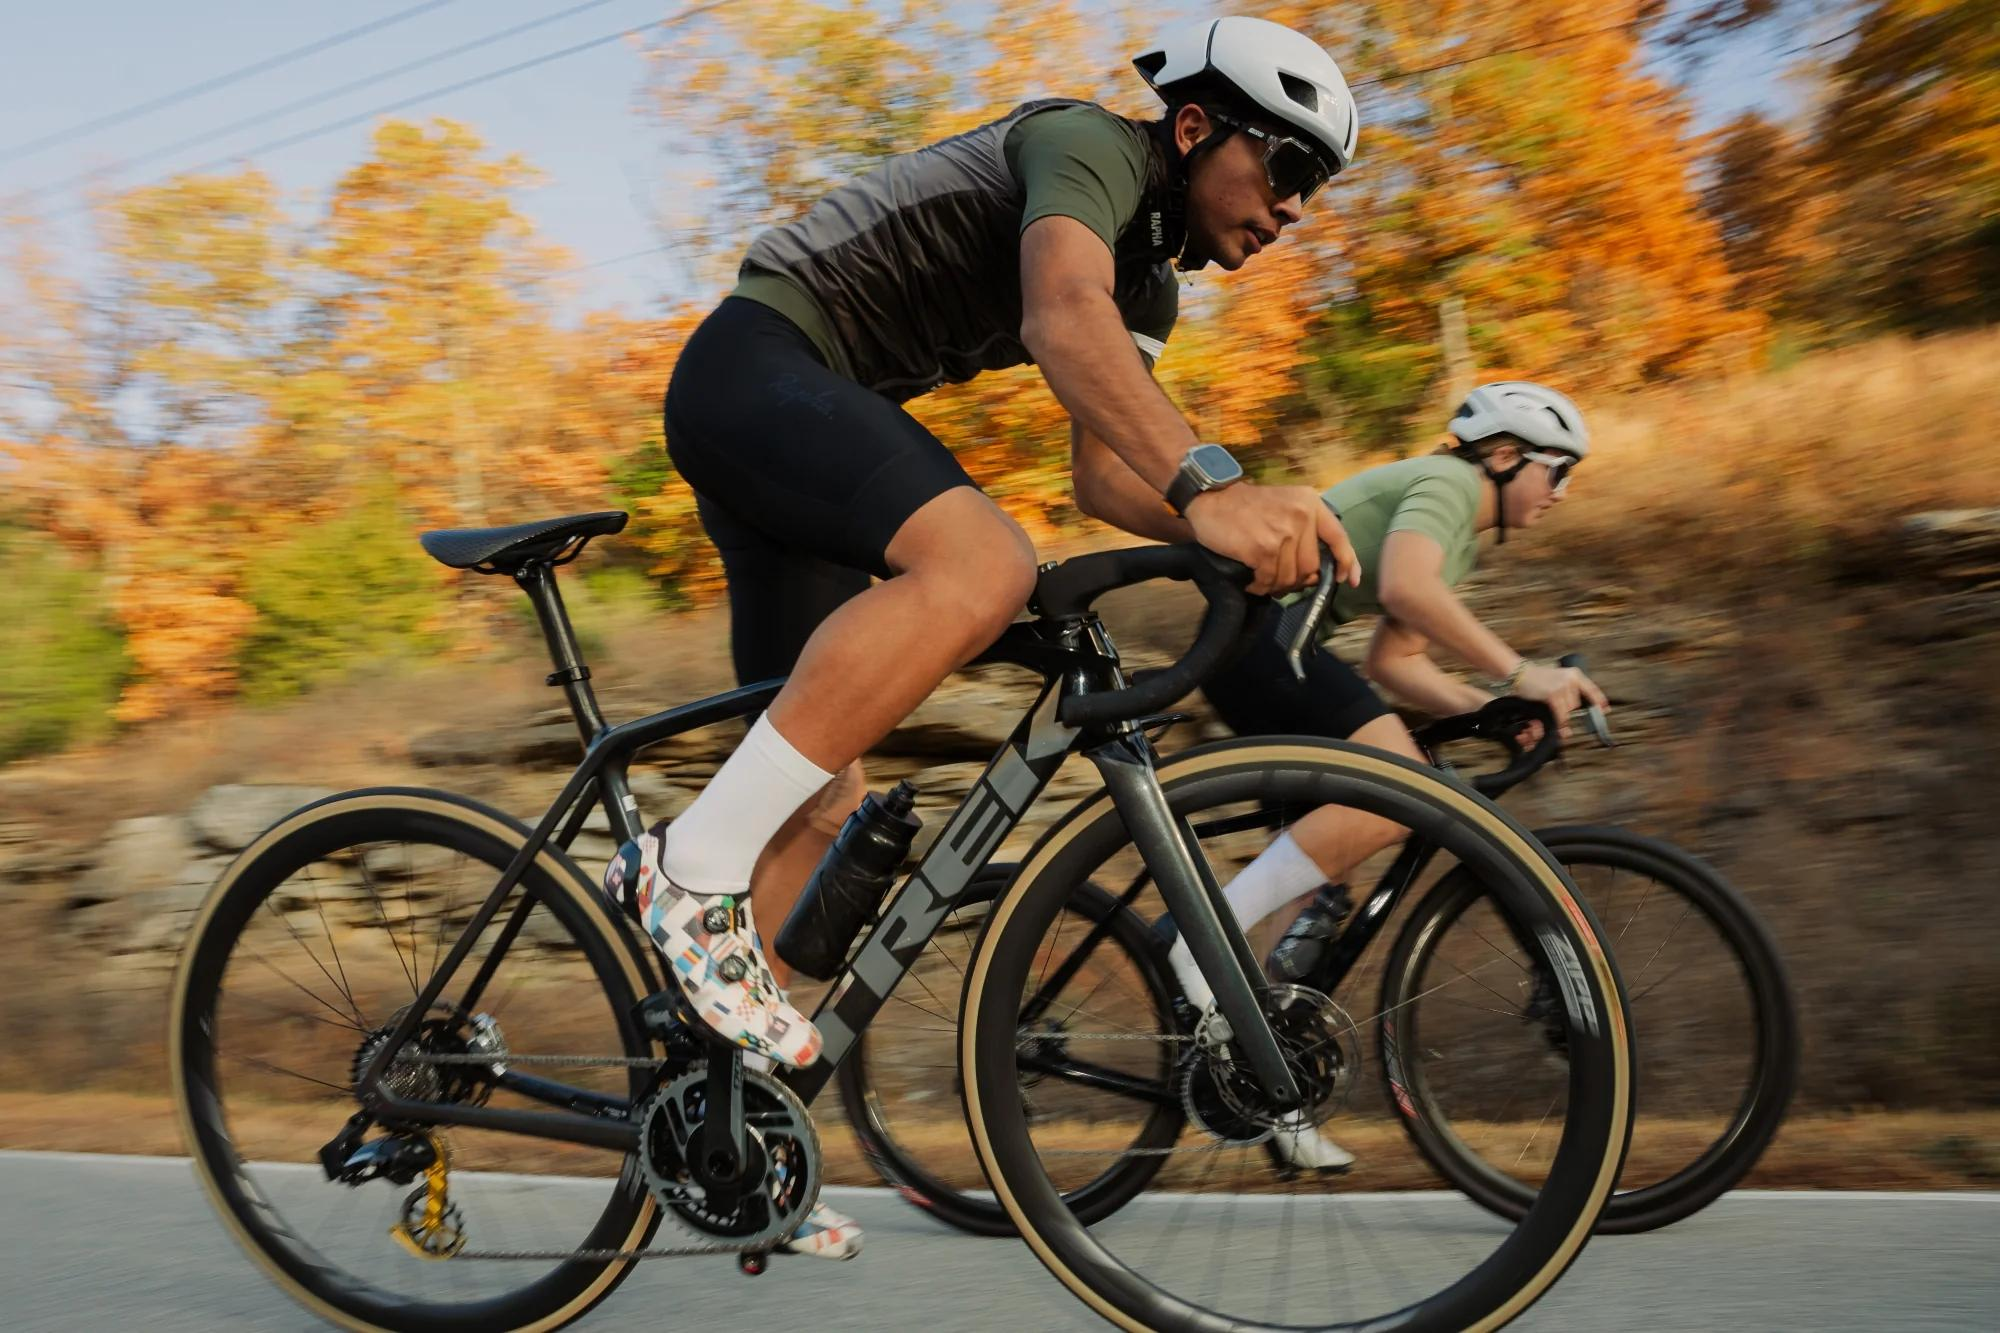bicycle: (165, 506, 1642, 1333), (833, 652, 1811, 1236)
